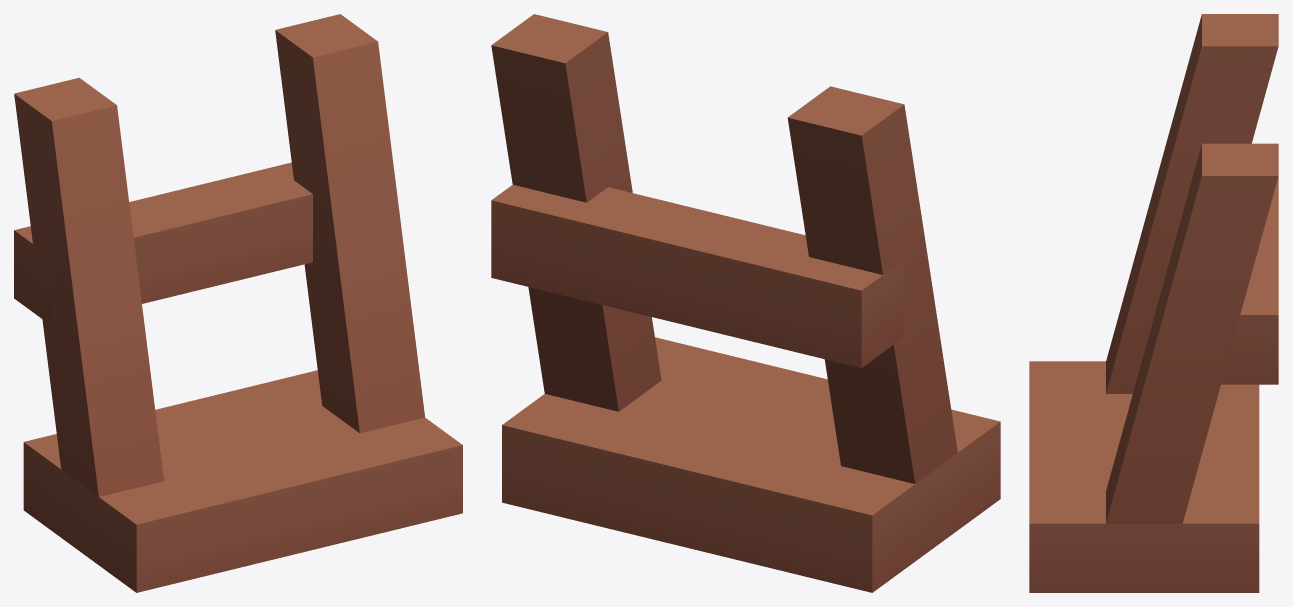
Rendered from weaponrack.glb.
The picture shows the model from 3 angles, left to right: view 1: azimuth 30°, elevation 25°; view 2: azimuth 150°, elevation 25°; view 3: azimuth 270°, elevation 25°; orthographic projection. The views are drawn at different scales.
Parts seen in each view (by area): view 1: weaponrack; view 2: weaponrack; view 3: weaponrack.
Boxes of the visible parts, x1,y1,x2,y2 form: weaponrack: [14, 14, 462, 592]; weaponrack: [491, 14, 1000, 592]; weaponrack: [1029, 14, 1278, 592].
Size of the model in its own units: 0.2 by 0.24 by 0.13.
Materials: 1 (1 with a texture image).
